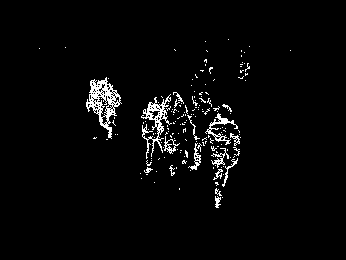person: (209, 104, 241, 209), (84, 77, 123, 138), (164, 90, 189, 176), (190, 91, 217, 170), (141, 97, 165, 176)
